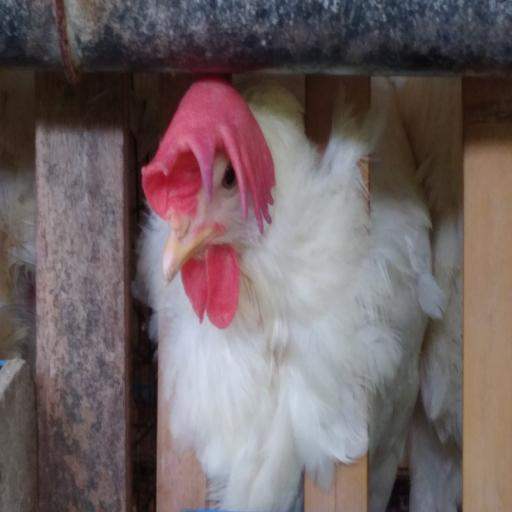healthy: (160, 102, 274, 306)
